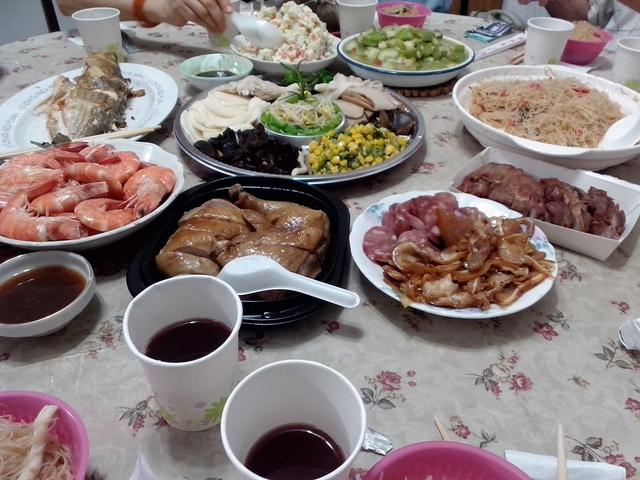corn: (362, 123, 373, 134), (347, 141, 358, 150), (396, 137, 406, 146), (358, 155, 366, 165), (332, 155, 340, 164), (351, 134, 364, 139), (309, 140, 318, 147), (362, 146, 368, 156), (308, 157, 316, 164), (376, 141, 384, 148), (324, 140, 332, 147), (375, 156, 383, 163), (392, 148, 400, 154), (378, 130, 385, 136), (340, 167, 348, 172), (322, 136, 328, 142), (321, 148, 326, 155), (356, 127, 361, 134), (386, 143, 390, 148)
